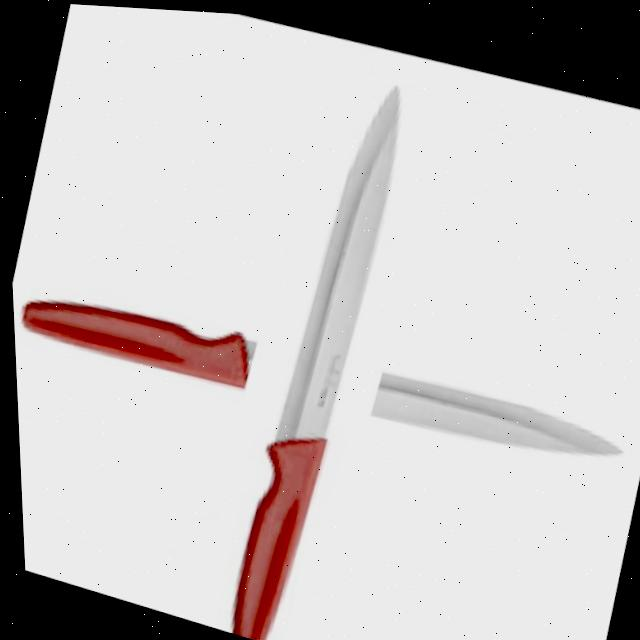knife: (9, 252, 626, 507), (197, 57, 430, 640)
